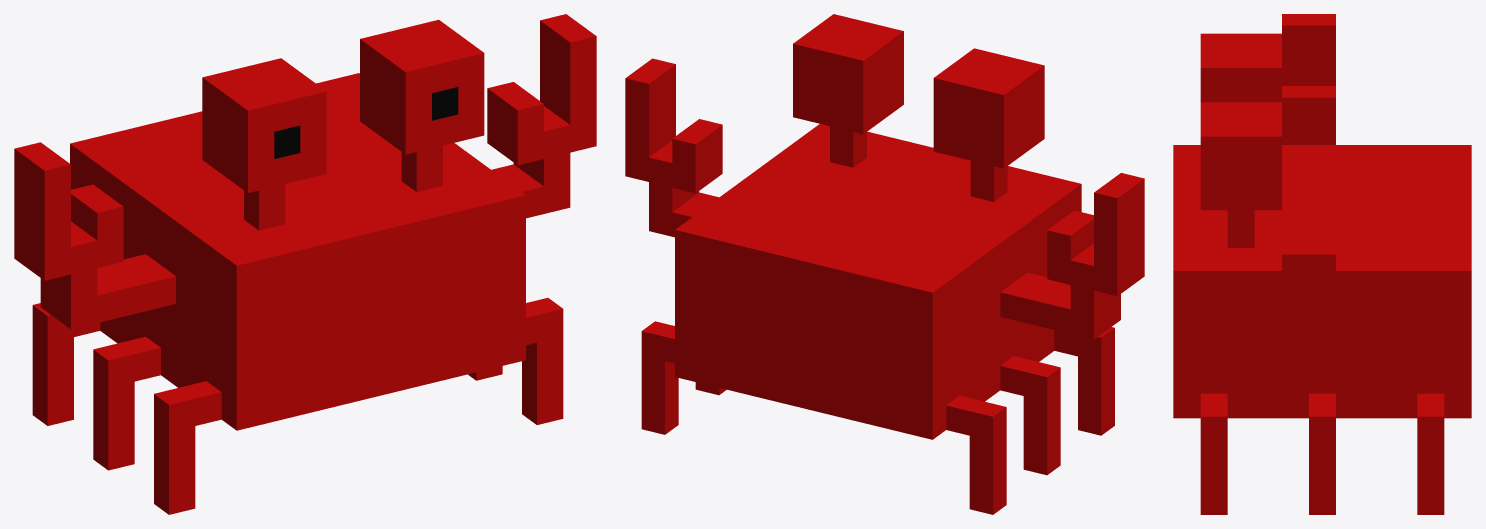
Rendered from habitat_cangrejo.vox-2.obj.
3 renders of one model, left to right at view 1: azimuth 30°, elevation 25°; view 2: azimuth 150°, elevation 25°; view 3: azimuth 270°, elevation 25°, orthographic. The views are drawn at different scales.
Bounding box in the file's own units: 2.1 × 1.4 × 1.1.
Materials: 1 (1 with a texture image).
